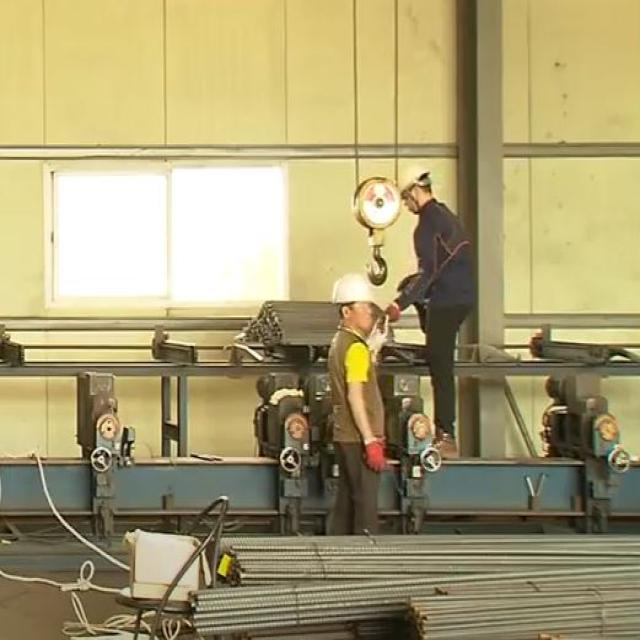gloved_hand: (358, 430, 389, 473), (384, 297, 410, 328)
